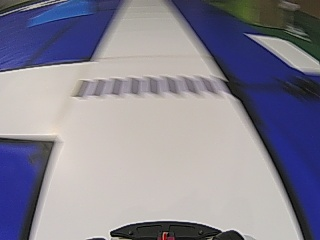CrossWalk: (73, 77, 215, 99)
